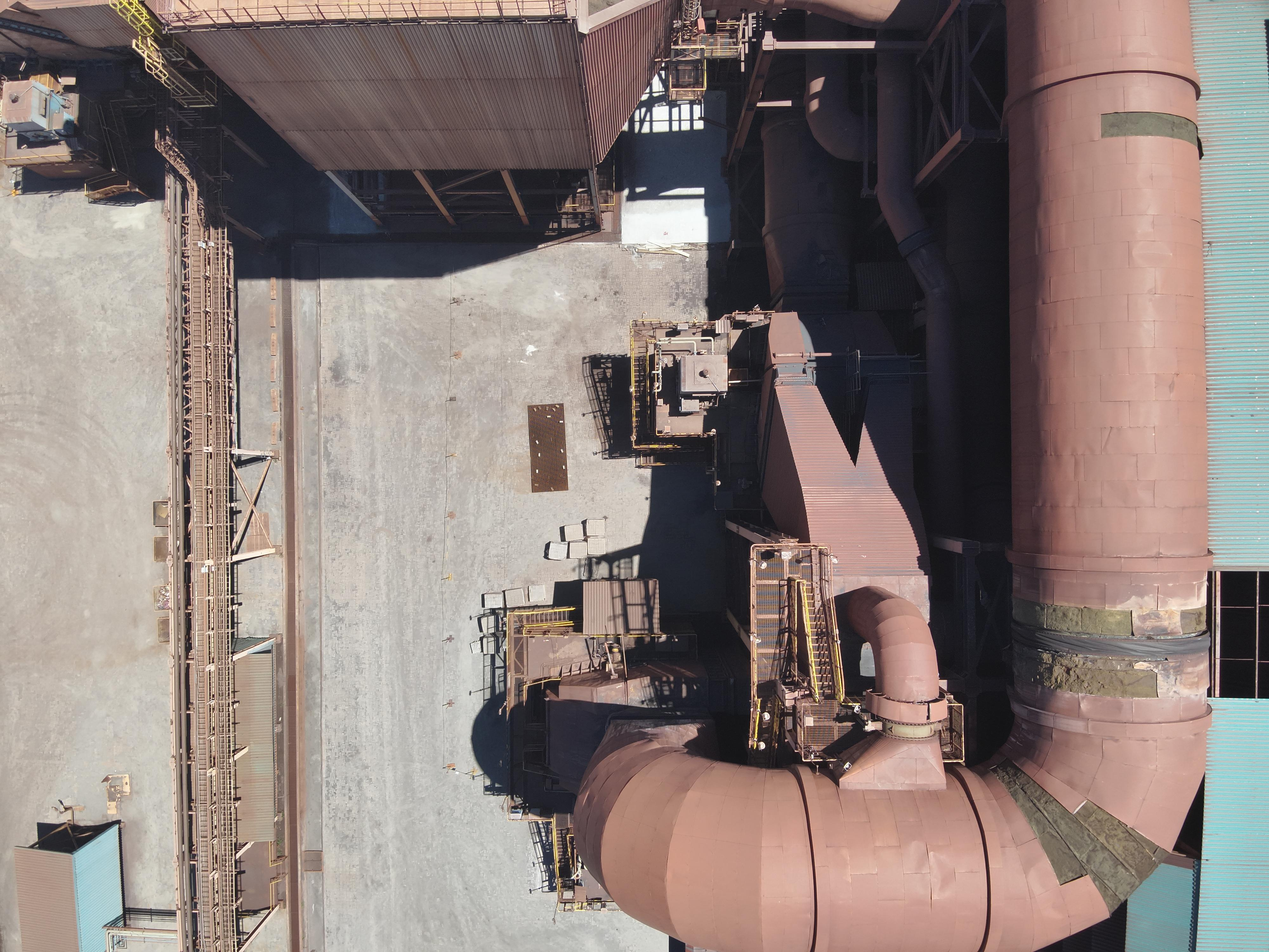Failures: (987, 762, 1173, 907), (1008, 643, 1161, 700), (1009, 595, 1137, 640), (1101, 109, 1204, 149), (1174, 603, 1209, 639), (1192, 119, 1209, 166)
